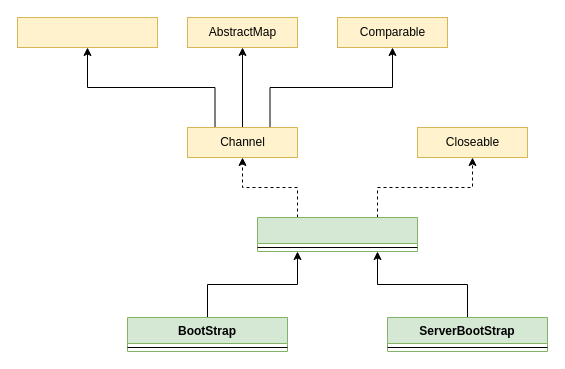
Some shapes in this 565 by 369 pixel diagram are drawn without their labels. Here are the shapes that lost their labels. From the top down, the centre of each, then its label:
point 87,32: ChannelOutboundInvoker
point 337,234: AbstractBootStrap
